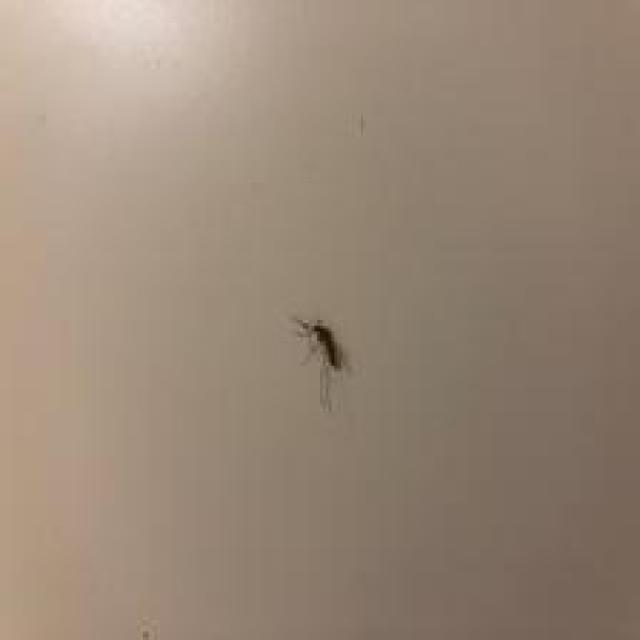Culex: (293, 316, 350, 413)
